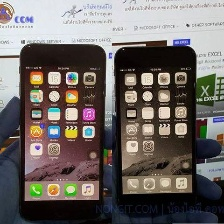phone: (15, 40, 110, 224), (109, 42, 202, 218)
